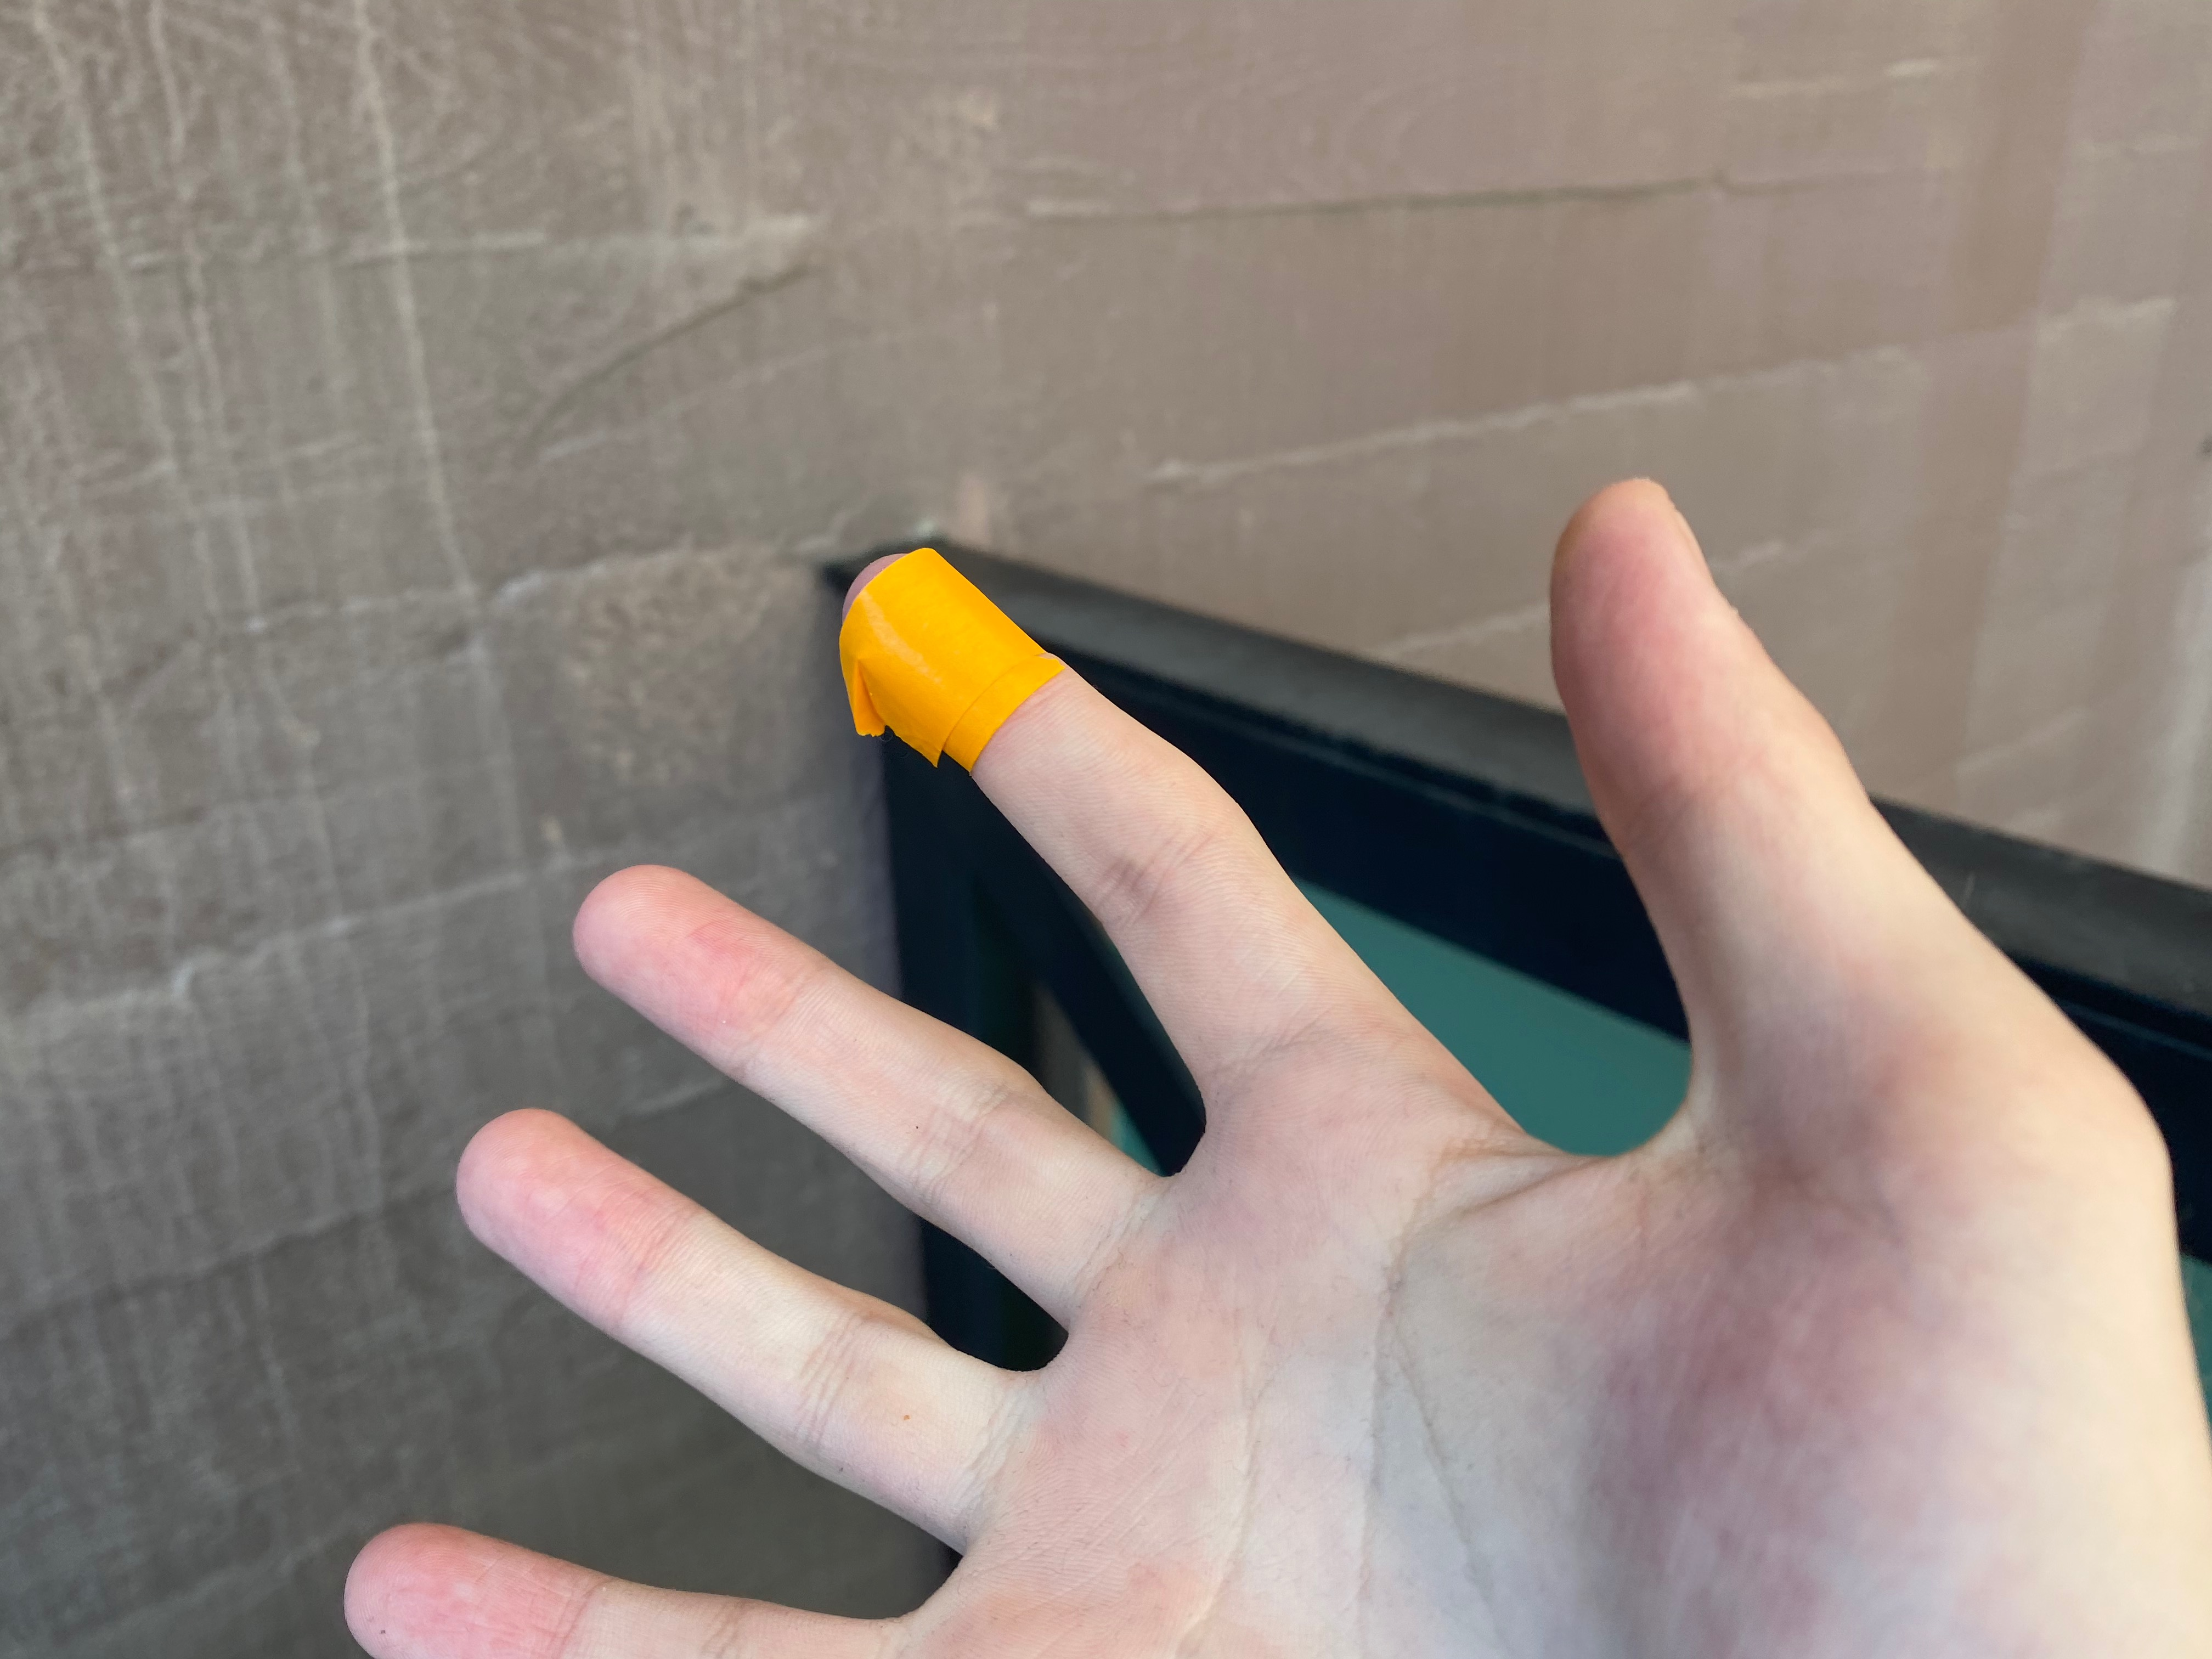fingertip: (803, 532, 1071, 784)
